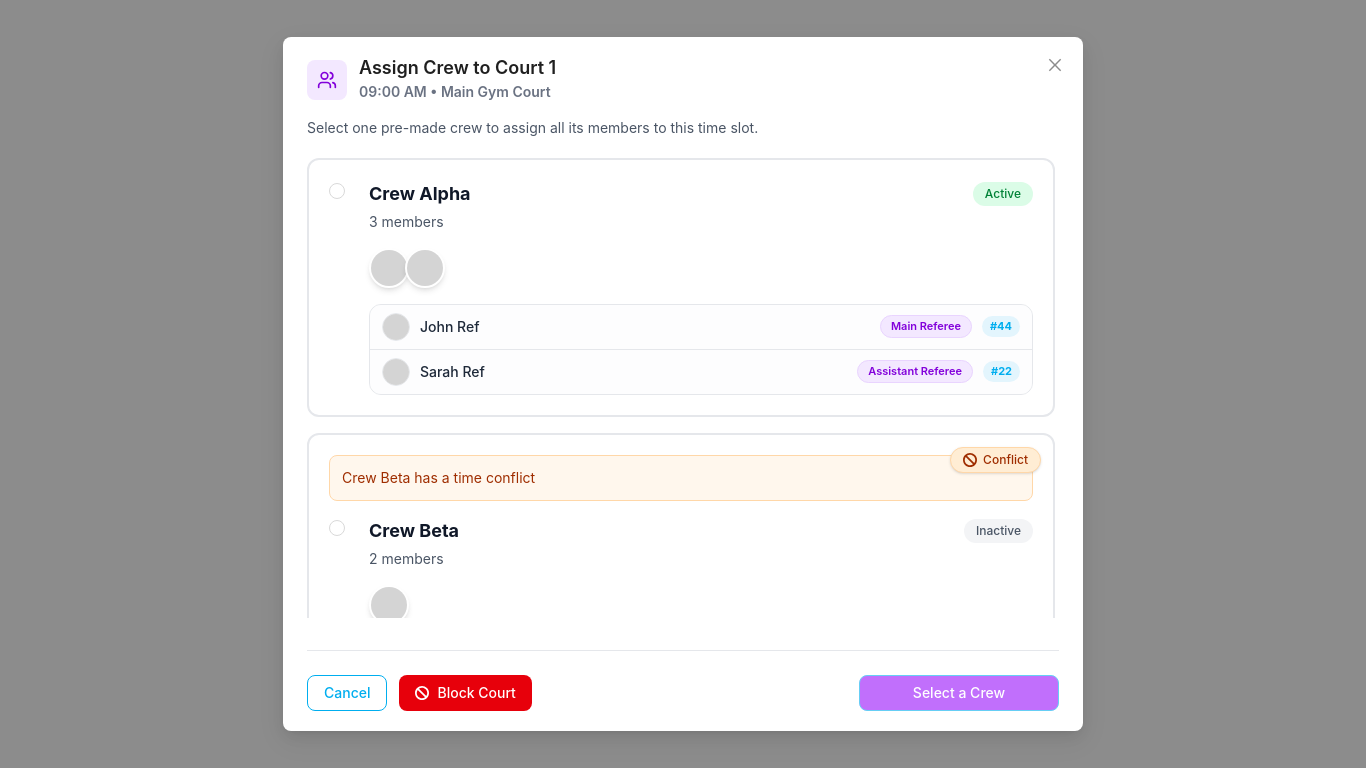
Scenario: CrewAssignModal Component › selects a crew on click and enables the assign button
Expected: the button "Select a Crew" is disabled, [859,675,1059,711]
What coordinates should you click on to do the following:
click the heading "Crew Alpha"
I would click on:
 (420, 194)
Its box is [369,180,471,208].
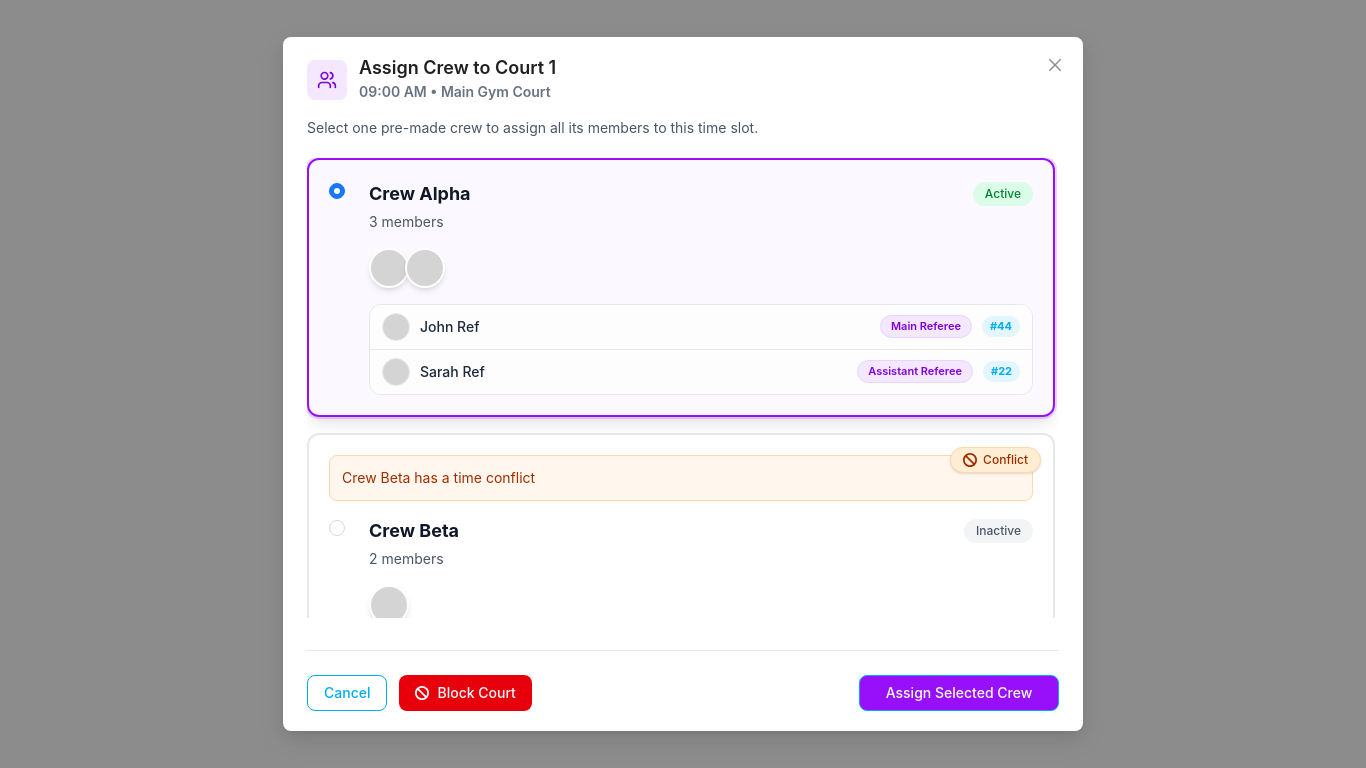
Expected: the button "Assign Selected Crew" is enabled, [859,675,1059,711]
